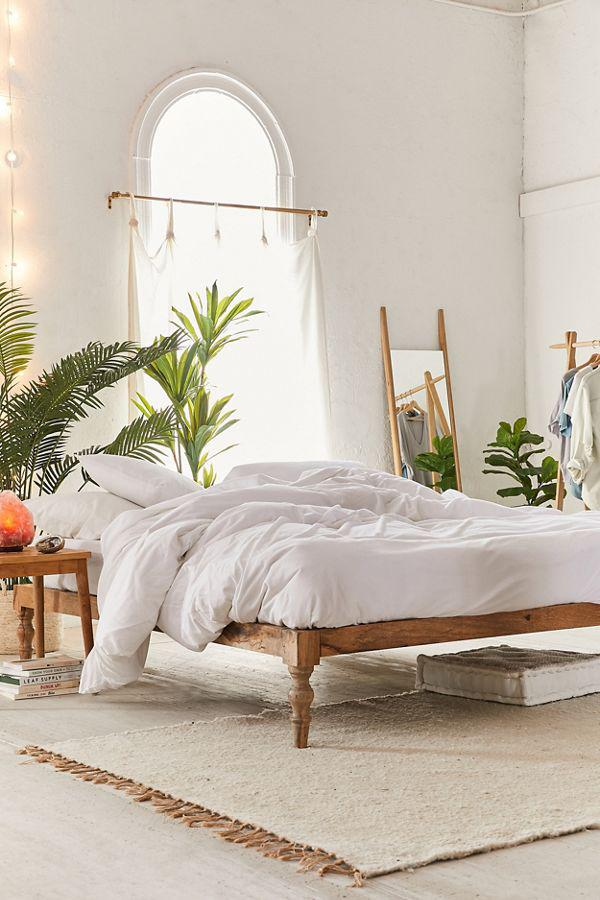bed: (18, 461, 598, 761)
